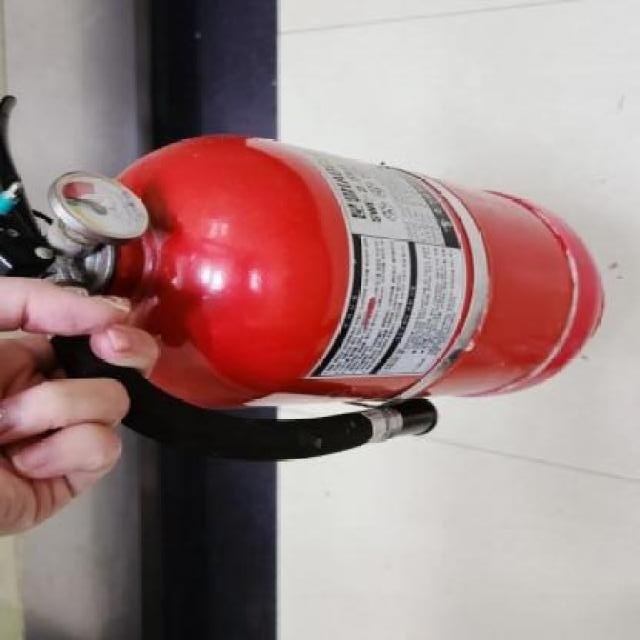fire extinguisher: (0, 96, 603, 462)
